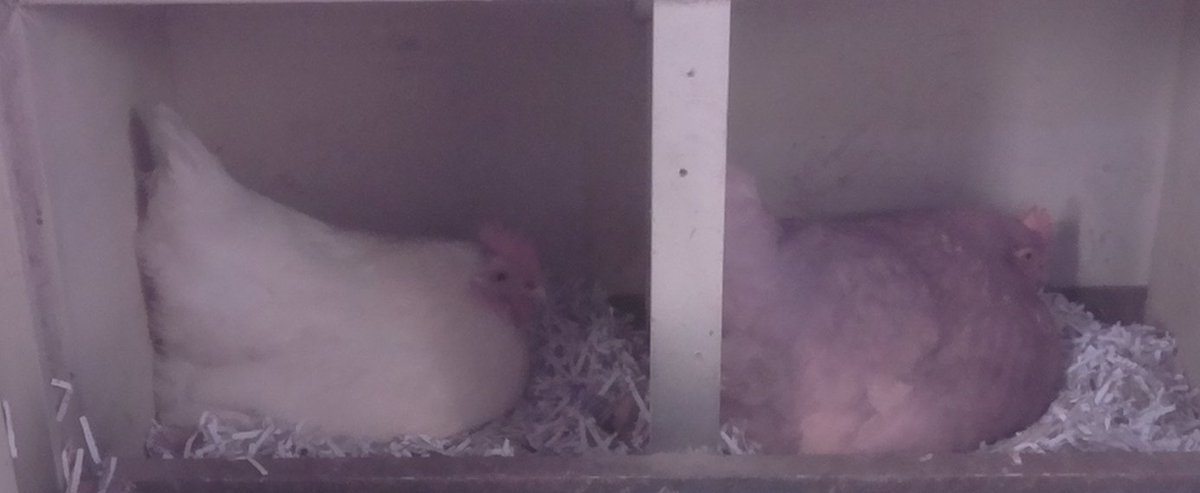hen: (130, 155, 563, 461), (727, 174, 1073, 451)
